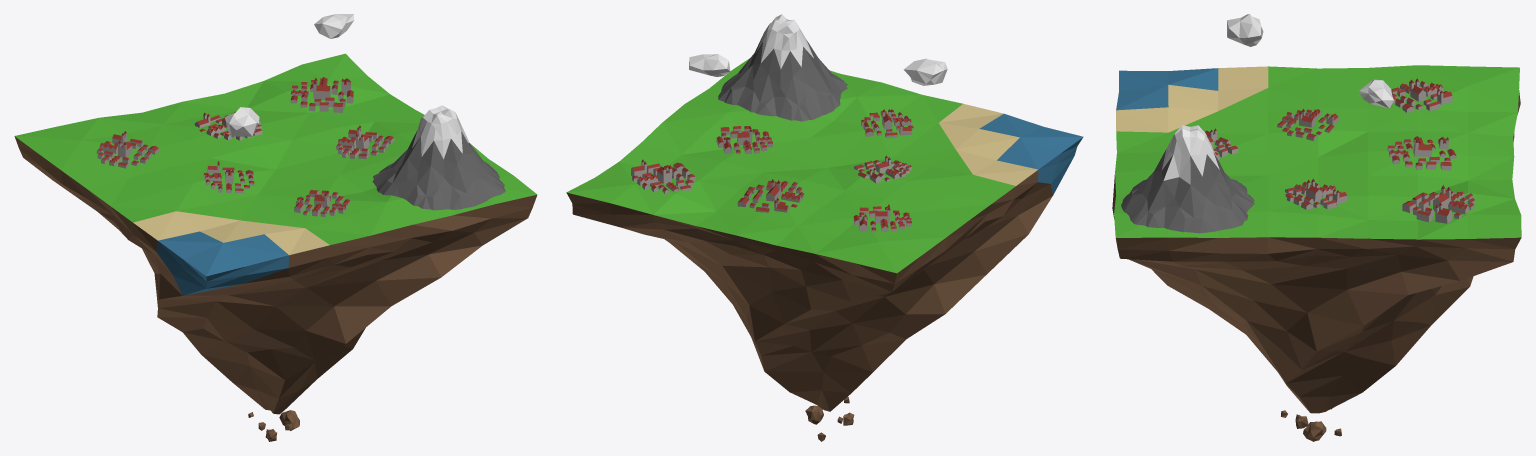
The model's file is OldIsland.fbx.
3 renders of one model, left to right at view 1: azimuth 30°, elevation 25°; view 2: azimuth 150°, elevation 25°; view 3: azimuth 270°, elevation 25°, orthographic. The views are drawn at different scales.
Parts seen in each view (by area): view 1: geo_Island, geo_Mountain, geo_Village5, geo_Village3, geo_Village1, geo_Village4, geo_Village, geo_CloudB, geo_CloudA, geo_Village2; view 2: geo_Island, geo_Mountain, geo_Village5, geo_Village2, geo_Village1, geo_Village3, geo_Village4, geo_Village, geo_CloudB, geo_CloudA; view 3: geo_Island, geo_Mountain, geo_Village5, geo_Village2, geo_Village3, geo_Village1, geo_Village, geo_CloudB, geo_CloudA, geo_Village4.
Part boxes in pixels (x1,y1,x2,y2): geo_Island: (14, 53, 537, 441); geo_Mountain: (372, 105, 505, 210); geo_Village5: (290, 77, 353, 112); geo_Village3: (96, 131, 158, 168); geo_Village1: (336, 125, 394, 158); geo_Village4: (294, 190, 350, 216); geo_Village: (203, 161, 254, 193); geo_CloudB: (224, 107, 259, 136); geo_CloudA: (314, 14, 354, 38); geo_Village2: (194, 111, 262, 140); geo_Island: (566, 58, 1083, 441); geo_Mountain: (718, 14, 847, 121); geo_Village5: (631, 159, 695, 193); geo_Village2: (737, 179, 804, 212); geo_Village1: (716, 126, 772, 154); geo_Village3: (853, 204, 911, 232); geo_Village4: (861, 109, 913, 137); geo_Village: (854, 155, 911, 183); geo_CloudB: (903, 58, 947, 85); geo_CloudA: (689, 54, 730, 76); geo_Island: (1112, 65, 1521, 441); geo_Mountain: (1121, 125, 1254, 233); geo_Village5: (1402, 185, 1474, 223); geo_Village2: (1387, 136, 1456, 170); geo_Village3: (1391, 78, 1452, 112); geo_Village1: (1285, 178, 1347, 209); geo_Village: (1277, 108, 1338, 140); geo_CloudB: (1227, 14, 1263, 46); geo_CloudA: (1359, 79, 1393, 108); geo_Village4: (1205, 128, 1238, 159).
Bounding box in the file's own units: 512 × 554 × 512.
